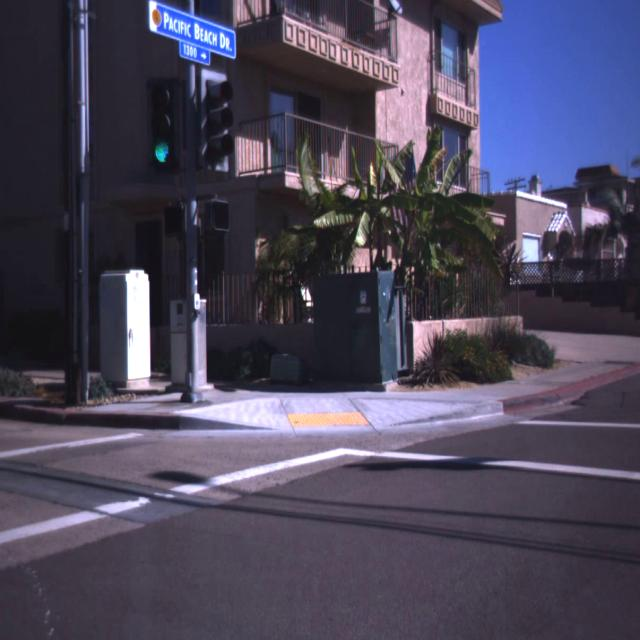yesil: (146, 78, 178, 173)
